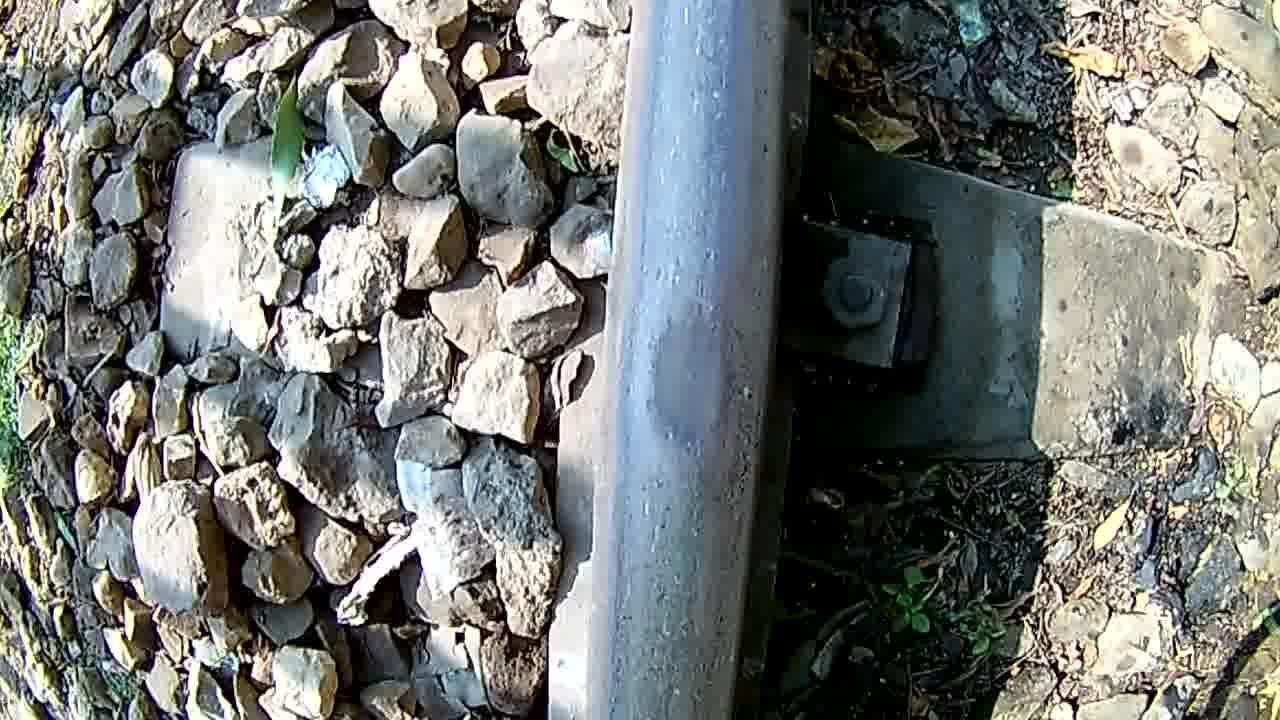crack: (619, 226, 767, 519)
